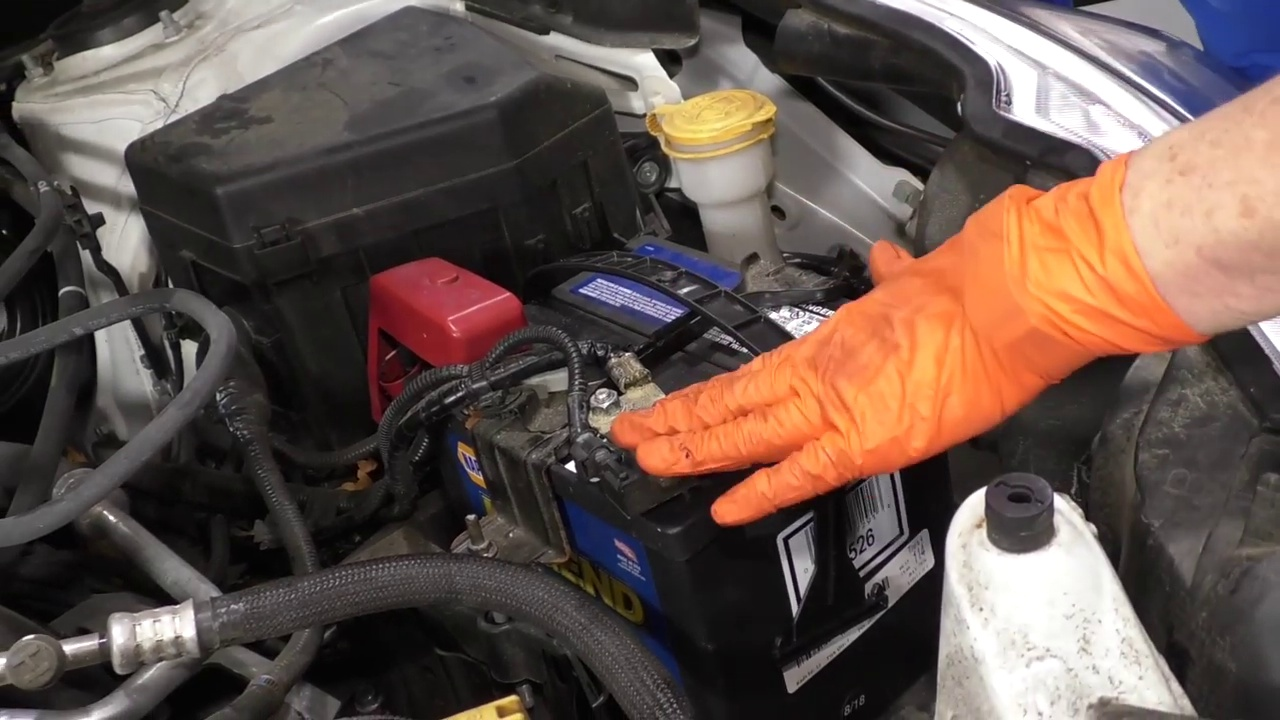battery: (421, 226, 927, 533)
pos_connected: (358, 246, 529, 402)
